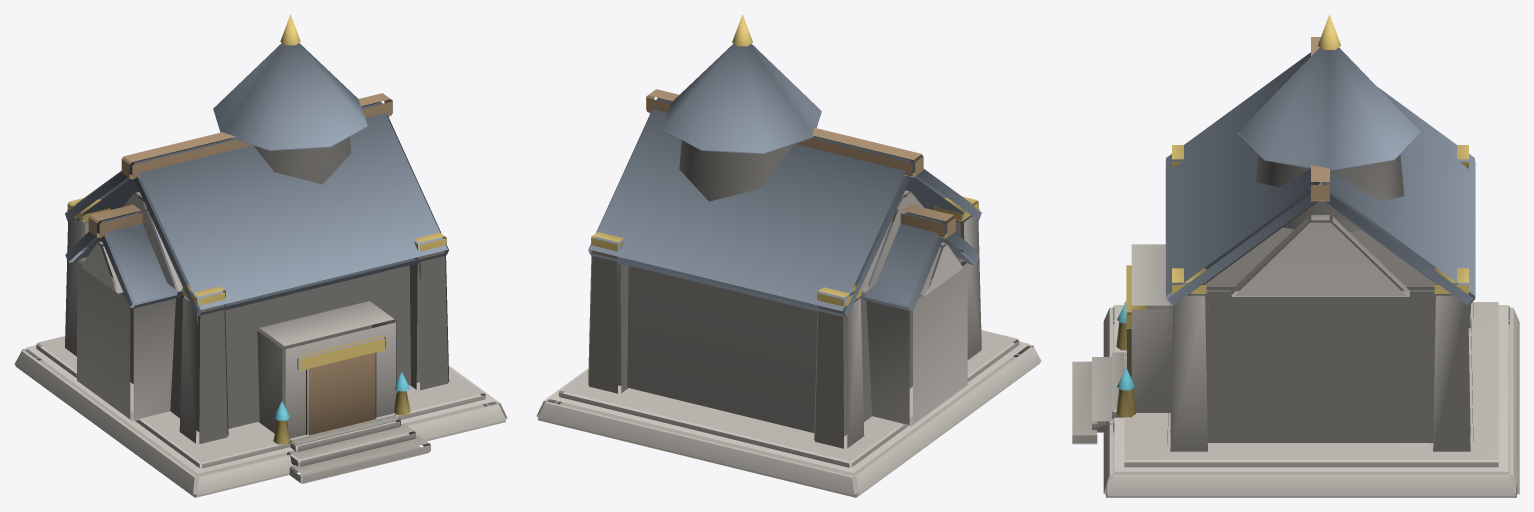
File: core_archive_townhall_lv2_lod2.glb
3 renders of one model, left to right at view 1: azimuth 30°, elevation 25°; view 2: azimuth 150°, elevation 25°; view 3: azimuth 270°, elevation 25°, orthographic. The views are drawn at different scales.
Visible parts, largest first — view 1: core_archive_townhall_lv2.001; view 2: core_archive_townhall_lv2.001; view 3: core_archive_townhall_lv2.001.
Part boxes in pixels (x1=…): core_archive_townhall_lv2.001: x1=14, y1=14, x2=507, y2=497; core_archive_townhall_lv2.001: x1=536, y1=14, x2=1041, y2=497; core_archive_townhall_lv2.001: x1=1072, y1=14, x2=1519, y2=497.
Bounding box in the file's own units: 4.71 × 5.13 × 4.99.
